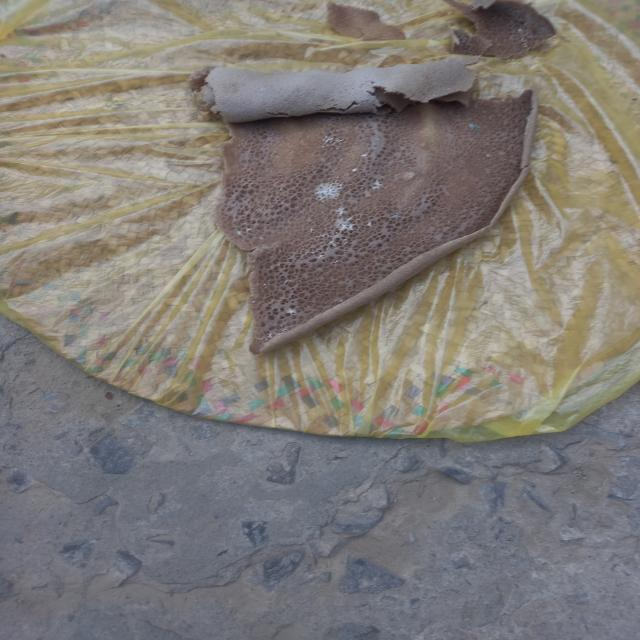injera_mold: (331, 208, 355, 235), (310, 183, 345, 200), (317, 134, 349, 146), (368, 180, 388, 191), (310, 252, 332, 262), (314, 233, 331, 244), (257, 332, 280, 339), (469, 120, 481, 132), (285, 308, 300, 316), (336, 238, 351, 245), (388, 214, 404, 220), (234, 229, 243, 238), (244, 226, 256, 232), (483, 152, 492, 160), (349, 167, 360, 173), (283, 279, 293, 284), (360, 153, 366, 159), (308, 227, 314, 233), (262, 282, 268, 288), (258, 236, 266, 240), (251, 300, 258, 304), (334, 260, 339, 265), (366, 222, 372, 226), (260, 88, 266, 92), (337, 300, 346, 302), (425, 62, 429, 65), (278, 250, 282, 252), (446, 60, 449, 62)
